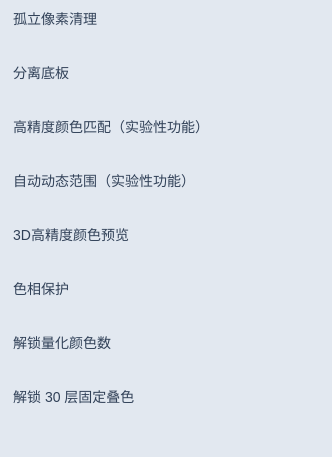
Test: AdvancedSettings — LUT-Constrained K-Means toggle › restores hue availability outside material mode without resurrecting it on return
This screenshot has width=332, height=457.
Click the switch labelled "色相保护".
click(41, 289)  # box [13,279,69,299]
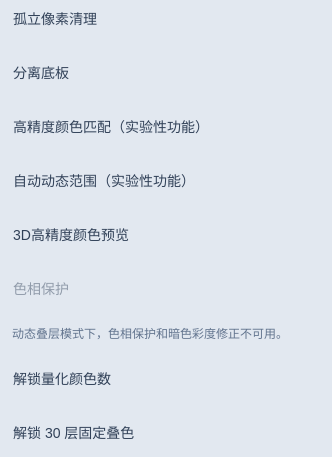
Expected: the switch labelled "色相保护" is disabled, [13,279,69,299]
